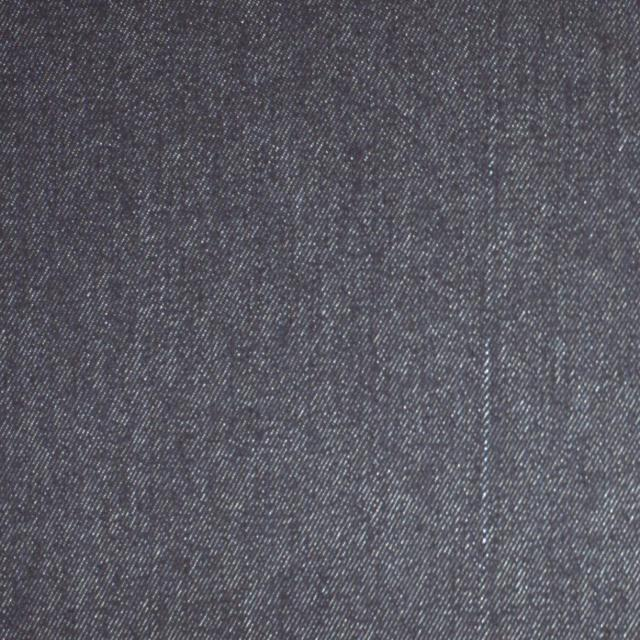Warp_Weft: (475, 0, 506, 637)
